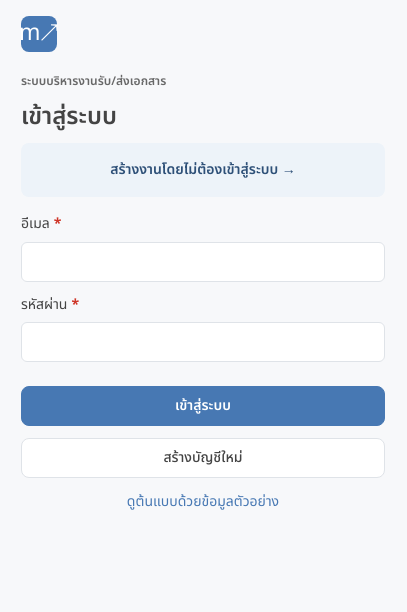
Test case: shows the real Auth login screen and submits only credentials to Supabase Auth
The width and height of the screenshot is (407, 612).
Expected: the heading "เข้าสู่ระบบ" is shown, [21,99,117,135]
Step 1. Type "test@example.invalid" into the field labelled "อีเมล *" → point(203, 262), box [21,242,385,282]
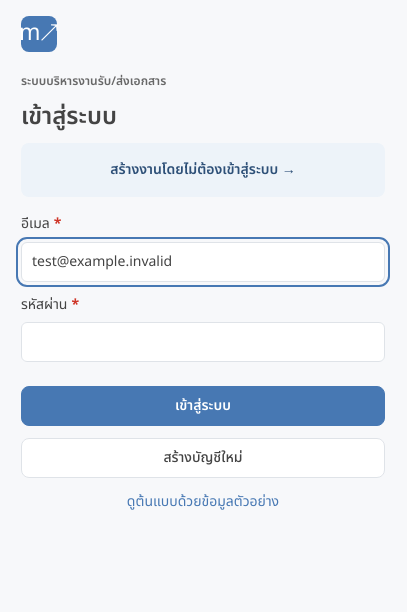
Step 2. Type "test-password" into the password field labelled "รหัสผ่าน *" → point(203, 342), box [21,322,385,362]
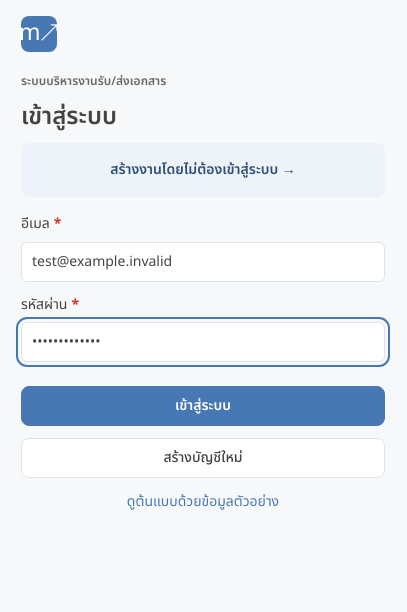
Step 3. Click the button "เข้าสู่ระบบ" → point(203, 406), box [21,386,385,426]
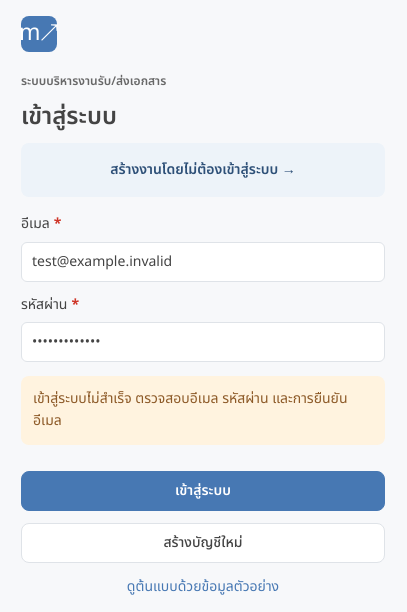
Expected: the message shows "เข้าสู่ระบบไม่สำเร็จ", [33,388,348,431]
